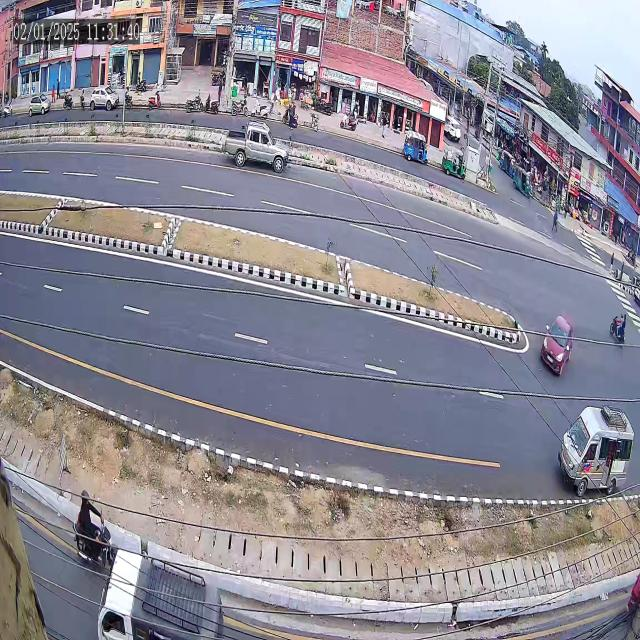car: (534, 289, 577, 384)
motorcycle: (62, 463, 119, 564), (599, 305, 632, 349)
